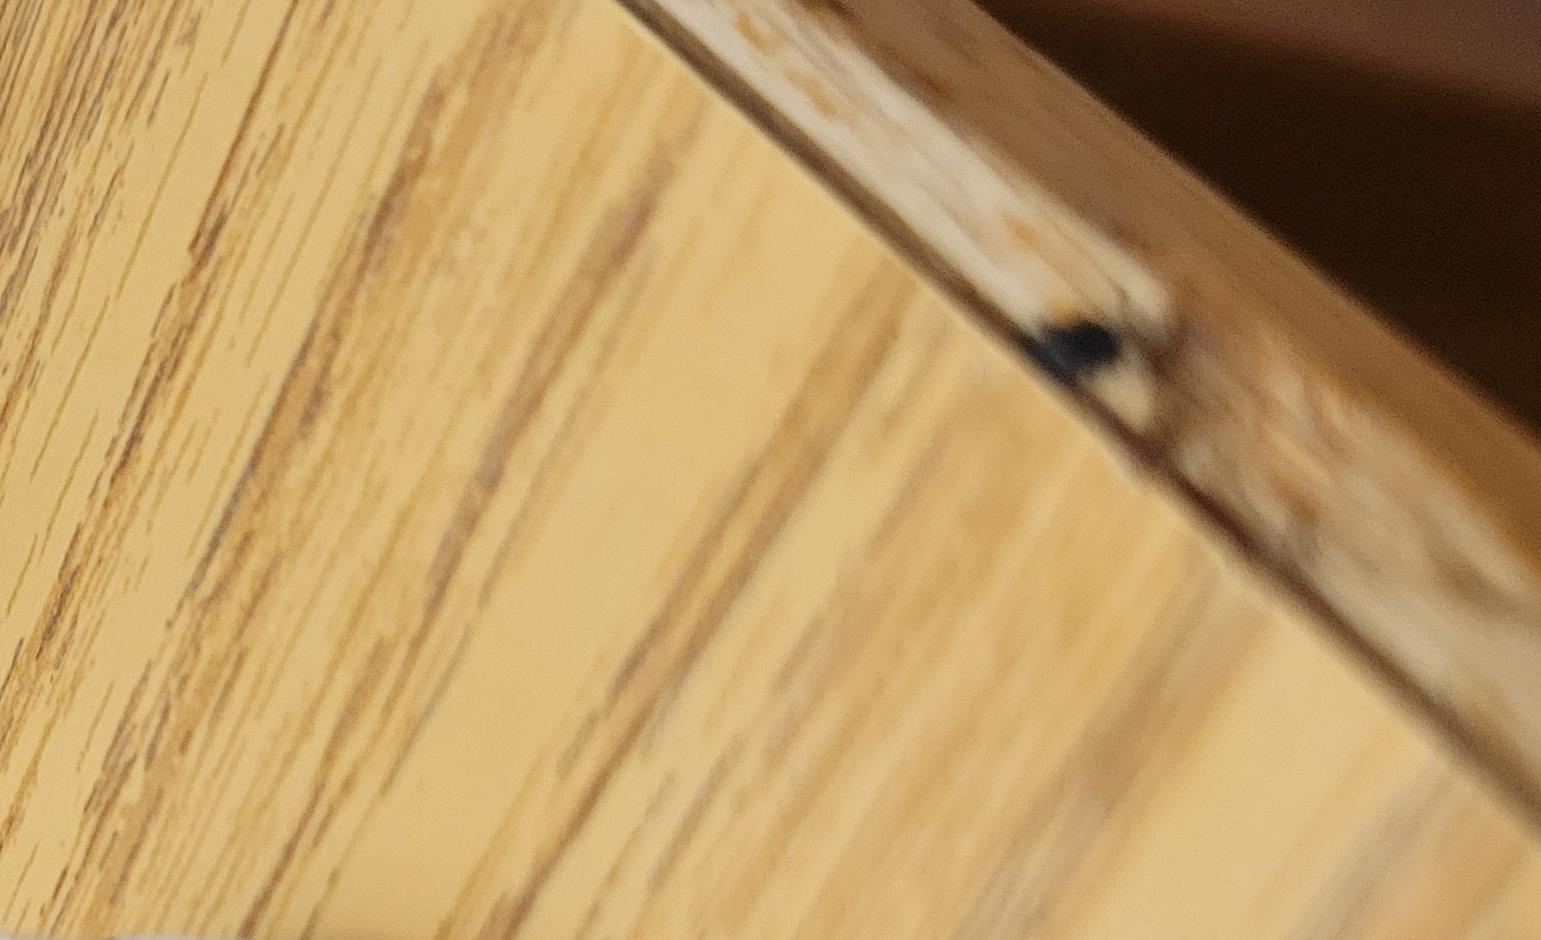Chip: (1, 223, 625, 940)
